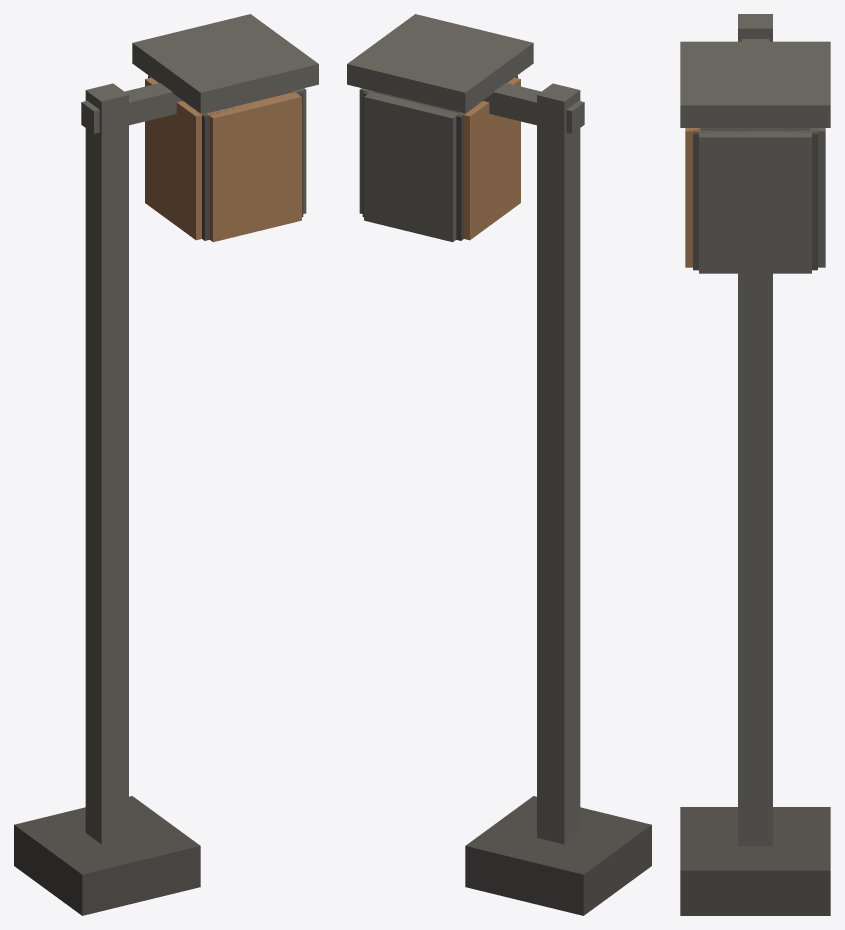
Rendered from lamp_post.glb.
3 views of the same model, side by side, from view 1: azimuth 30°, elevation 25°; view 2: azimuth 150°, elevation 25°; view 3: azimuth 270°, elevation 25° (orthographic). The views are drawn at different scales.
Parts seen in each view (by area): view 1: LampStem, LampBase, LampBar_2, LampCap, LampBar_0, LampArm, LampCage; view 2: LampStem, LampBase, LampBar_3, LampCap, LampBar_0, LampArm, LampCage; view 3: LampStem, LampBar_1, LampBase, LampCap, LampCage, LampBar_2, LampBar_3.
Boxes of the visible parts, box(x1,y1,x2,y2) form: LampStem: box(85, 83, 128, 844); LampBase: box(14, 796, 200, 915); LampBar_2: box(207, 92, 301, 242); LampCap: box(132, 14, 318, 113); LampBar_0: box(145, 77, 206, 240); LampArm: box(81, 83, 182, 133); LampCage: box(148, 75, 303, 240); LampStem: box(537, 83, 580, 844); LampBase: box(465, 796, 651, 915); LampBar_3: box(364, 92, 458, 242); LampCap: box(347, 14, 533, 113); LampBar_0: box(460, 77, 520, 240); LampArm: box(483, 83, 584, 133); LampCage: box(362, 75, 517, 240); LampStem: box(738, 14, 772, 846); LampBar_1: box(699, 131, 811, 273); LampBase: box(680, 807, 830, 915); LampCap: box(680, 41, 830, 127); LampCage: box(693, 128, 817, 270); LampBar_2: box(685, 128, 700, 267); LampBar_3: box(810, 128, 825, 267).
Bounding box in the file's own units: 0.24 × 0.77 × 0.12.
